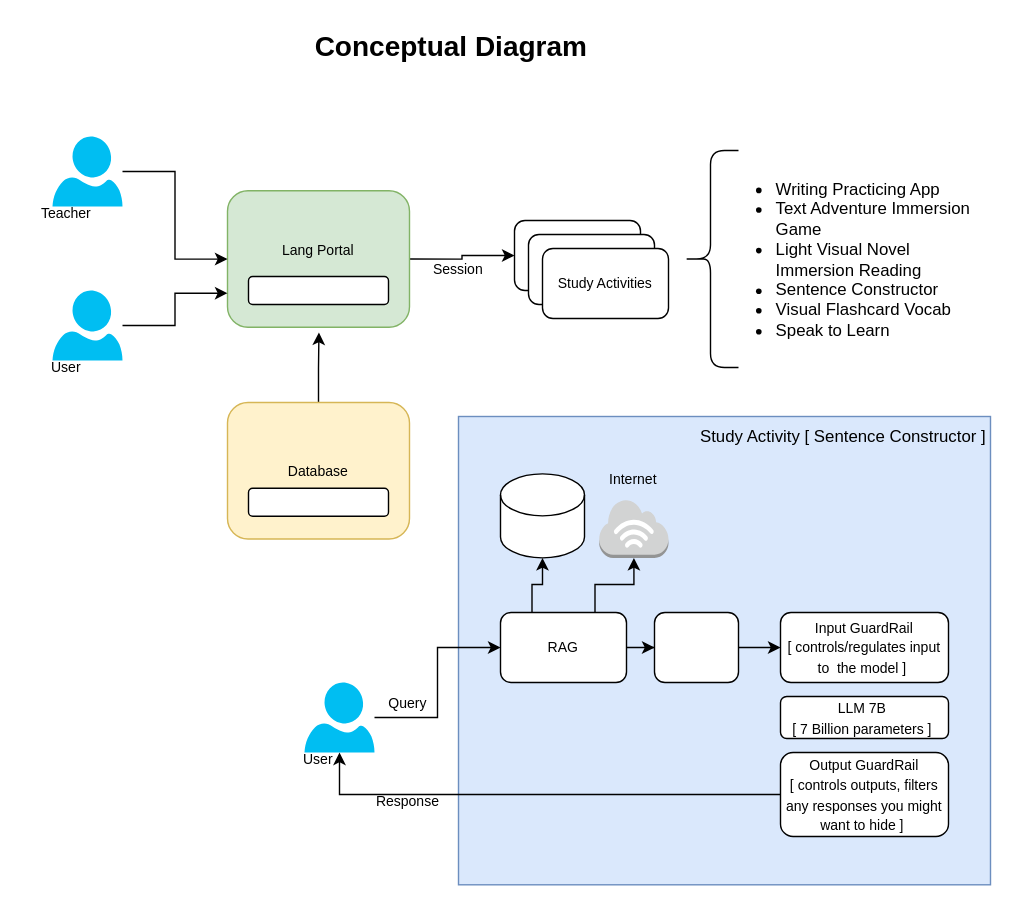
Image size: 1035x909. Some labels were removed from this diagram. The centre of each missing label's shape, as x and y in pixels:
"Cors 2000 words" belongs at [317,501].
"Prompt Cache" belongs at [695,646].
"Vector Database" belongs at [541,515].
"Word Group" belongs at [317,289].
